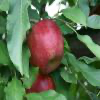Apple leaf: (6, 0, 31, 78), (58, 5, 89, 29), (76, 30, 99, 58), (4, 76, 28, 99), (60, 67, 78, 87), (85, 14, 99, 30)
